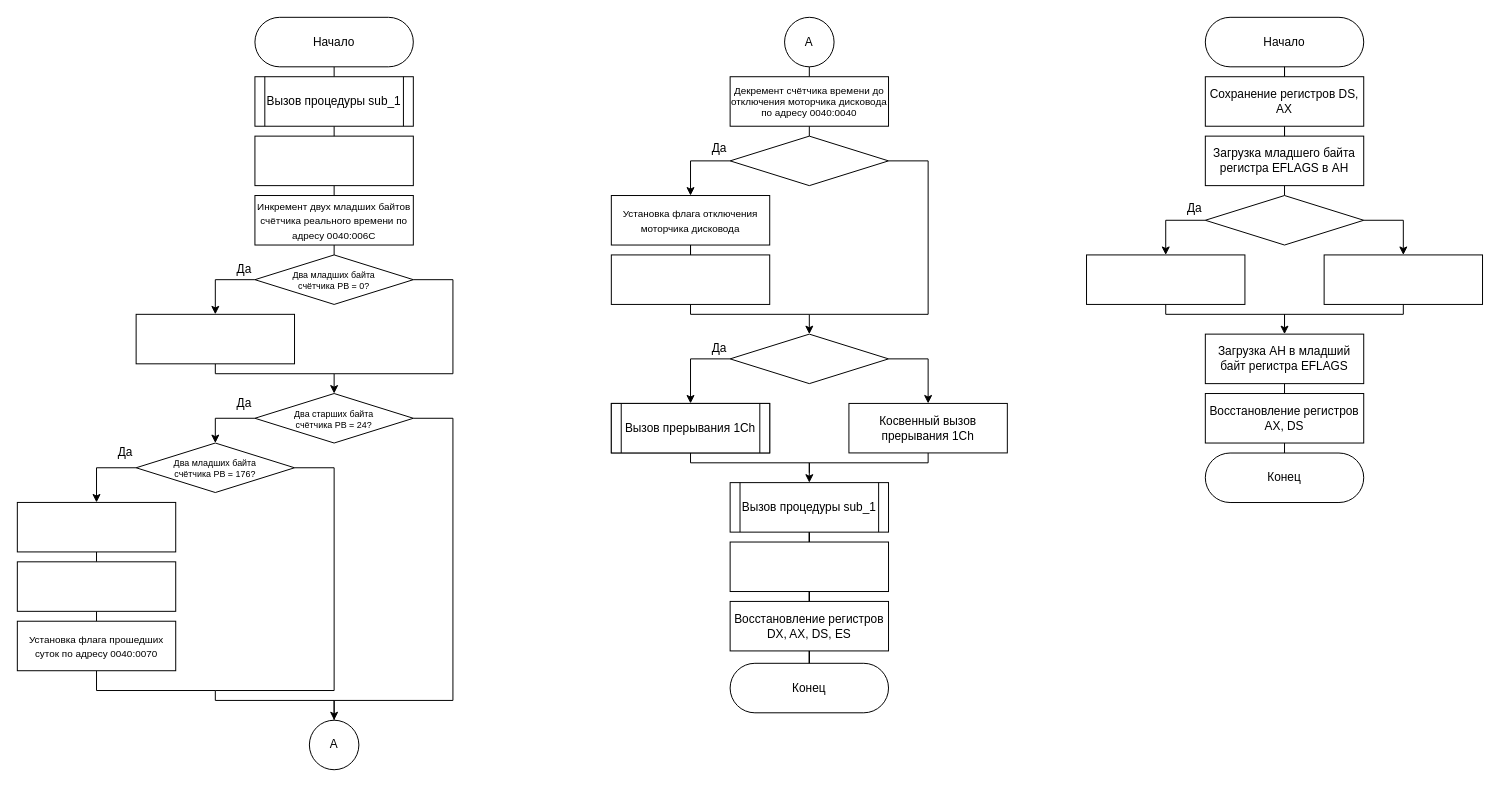
Some shapes in this 1500 by 787 pixel diagram are drawn without their labels. Each missing label, with the centre of its shape:
Запрет маскируемых прерываний инструкцией cli: [1165,279]
Инкремент двух старших байтов счётчика реально времени по адресу 0040:006E: [215,338]
Обнуление двух младших байтов счётчика реального времени по адресу 0040:006C: [96,586]
Обнуление двух старших байтов счётчика реального времени по адресу 0040:006E: [96,526]
Посылание команды отключения OCh в порт дисковода 3F2h: [690,279]
Сброс контроллера прерываний записью 20h в порт 20h: [809,566]
Сброс флага разрешения прерывания IF в 0040:0314: [1403,279]
Сохранение регистров ES, DS, AX, DX: [333,160]
Счётчик = 0?: [809,160]
Установлен ли флаг чётности PF в 0040:0314?: [809,358]
Установлены ли DF или старший бит IOPL в 0040:0314?: [1284,220]
